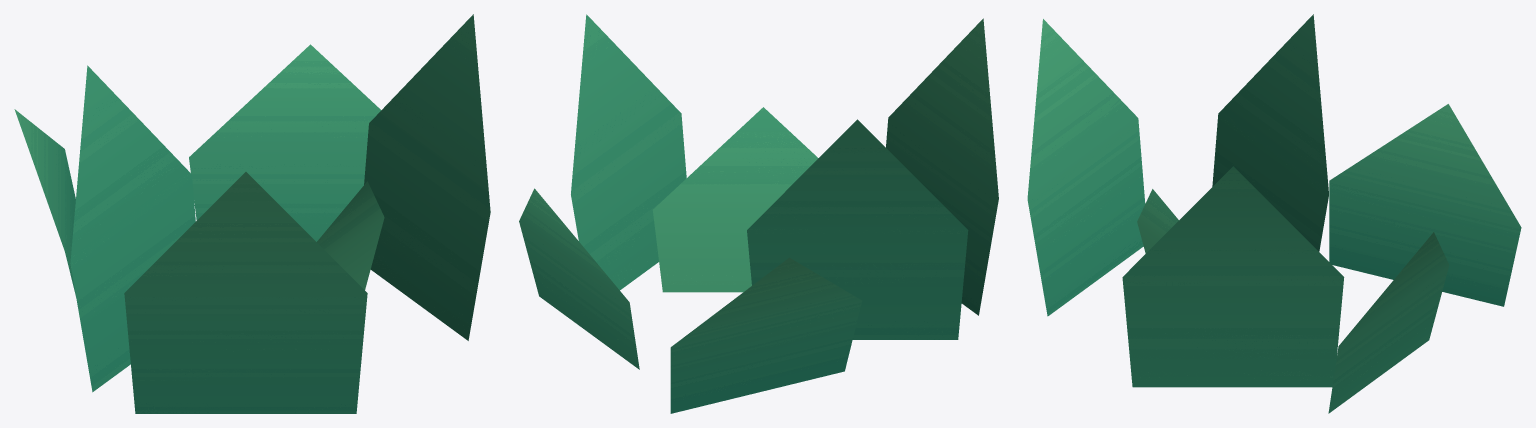
Rendered from grass.glb.
3 views of the same model, side by side, from view 1: azimuth 30°, elevation 25°; view 2: azimuth 150°, elevation 25°; view 3: azimuth 270°, elevation 25° (orthographic). The views are drawn at different scales.
Visible parts, largest first — view 1: grass; view 2: grass; view 3: grass.
Part boxes in pixels (left/top/right/bottom): grass: left=14, top=14, right=490, bottom=413; grass: left=519, top=14, right=998, bottom=413; grass: left=1027, top=14, right=1521, bottom=413.
Bounding box in the file's own units: 0.2345 × 0.1425 × 0.2573.
1 material, 1 textured.
